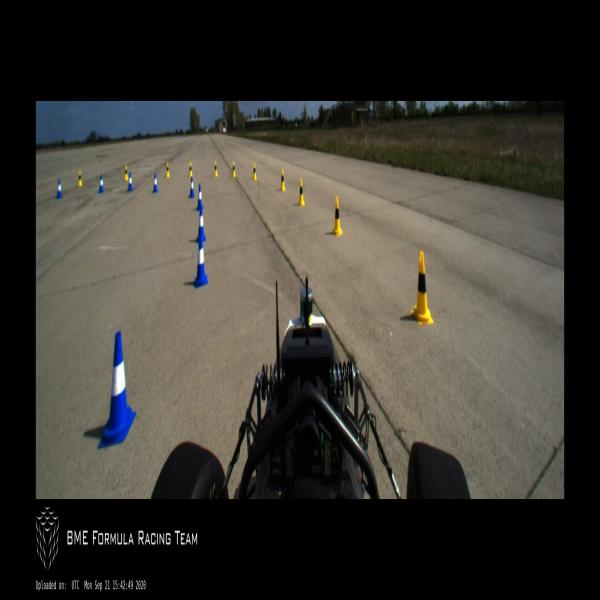blue_cone: (97, 333, 136, 449), (194, 234, 208, 287), (195, 206, 206, 241), (196, 184, 203, 210), (189, 176, 194, 198), (153, 173, 158, 193), (56, 180, 61, 198), (128, 174, 133, 191), (99, 176, 104, 193)
yellow_cone: (411, 250, 434, 324), (333, 196, 342, 235), (298, 178, 304, 206), (280, 169, 285, 192), (232, 161, 236, 179), (252, 163, 256, 180), (78, 171, 82, 187), (124, 167, 128, 181), (214, 162, 218, 176), (166, 163, 169, 177), (189, 163, 192, 177)
